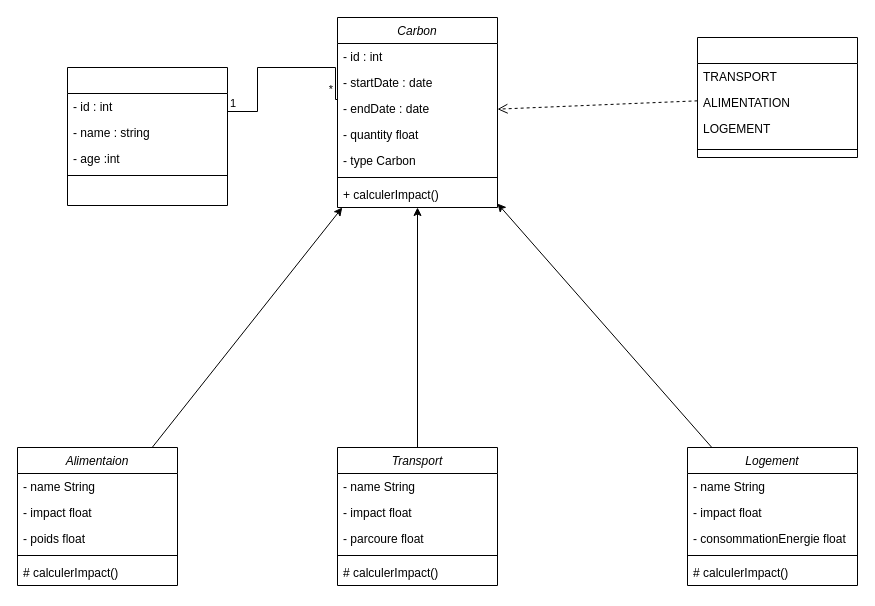
The diagram is 875 pixels wide and 606 high, and some of its shapes have lost their labels. Here are the shapes that lost their labels. From the top down, the box of each, then its label:
(696, 36, 858, 158): ype
(66, 66, 228, 206): User
